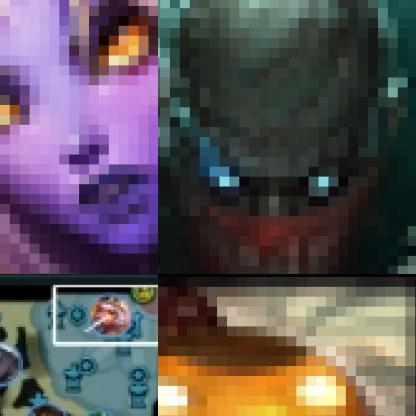Bard: (158, 274, 415, 415)
Cassiopeia: (23, 400, 72, 415)
Pyke: (158, 0, 415, 273)
Qiyana: (90, 296, 134, 338)
Senna: (0, 341, 24, 388)
Soraka: (0, 0, 157, 273)
